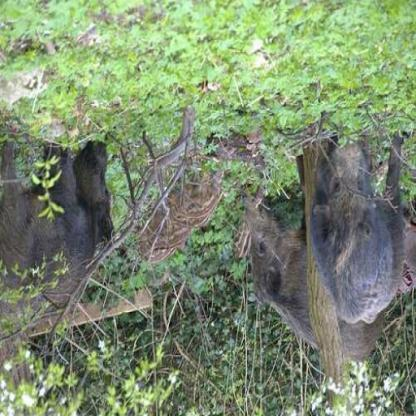boar: (226, 191, 377, 365), (312, 126, 414, 317)
